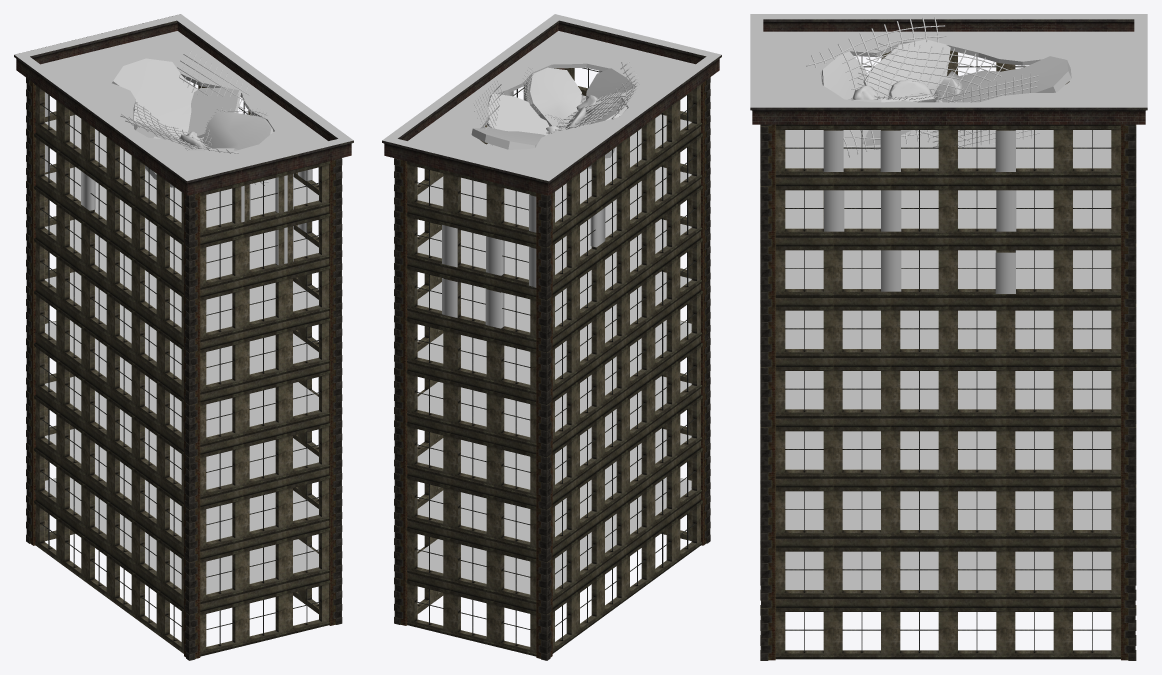
Rendered from BuildingTanBig01.fbx.
3 renders of one model, left to right at view 1: azimuth 30°, elevation 25°; view 2: azimuth 150°, elevation 25°; view 3: azimuth 270°, elevation 25°, orthographic. The views are drawn at different scales.
Parts seen in each view (by area): view 1: Cube.171, Cube.238, Cube.237, Cube.240, Cube.242; view 2: Cube.171, Cube.238, Cube.237, Cube.242, Cube.254, Cube.251, Cube.255, Cube.253, Cube.240, Cube.257; view 3: Cube.171, Cube.238, Cube.237, Cube.242, Cube.241, Cube.240, Cube.249, Cube.243, Cube.244, Cube.245, Cube.246, Cube.247 (+2 smaller).
Part boxes in pixels (left/top/right/bottom): Cube.171: left=26, top=77, right=342, bottom=660; Cube.238: left=41, top=31, right=327, bottom=187; Cube.237: left=14, top=14, right=353, bottom=195; Cube.240: left=177, top=51, right=248, bottom=140; Cube.242: left=133, top=102, right=211, bottom=148; Cube.171: left=394, top=68, right=710, bottom=660; Cube.238: left=403, top=31, right=695, bottom=180; Cube.237: left=382, top=14, right=721, bottom=195; Cube.242: left=545, top=92, right=626, bottom=135; Cube.254: left=485, top=288, right=504, bottom=328; Cube.251: left=486, top=236, right=504, bottom=275; Cube.255: left=442, top=225, right=457, bottom=267; Cube.253: left=442, top=278, right=457, bottom=317; Cube.240: left=473, top=80, right=503, bottom=146; Cube.257: left=590, top=207, right=605, bottom=247; Cube.171: left=760, top=50, right=1136, bottom=660; Cube.238: left=763, top=31, right=1134, bottom=145; Cube.237: left=750, top=14, right=1147, bottom=124; Cube.242: left=857, top=39, right=1008, bottom=147; Cube.241: left=806, top=16, right=961, bottom=157; Cube.240: left=932, top=72, right=1039, bottom=147; Cube.249: left=995, top=250, right=1015, bottom=293; Cube.243: left=996, top=190, right=1016, bottom=231; Cube.244: left=995, top=130, right=1015, bottom=171; Cube.245: left=881, top=190, right=901, bottom=231; Cube.246: left=880, top=130, right=900, bottom=171; Cube.247: left=824, top=190, right=844, bottom=231.
Size of what is drawn, in the model's own units: 1360 by 3855 by 2440.
